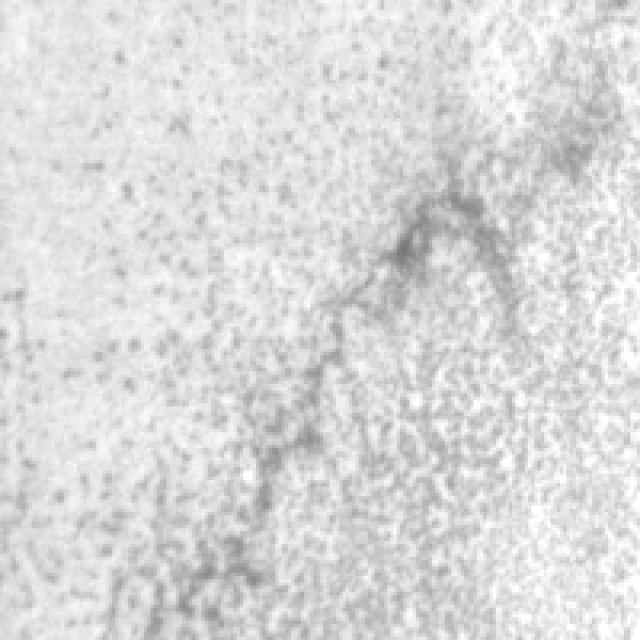pitted_surface: (77, 10, 413, 624)
